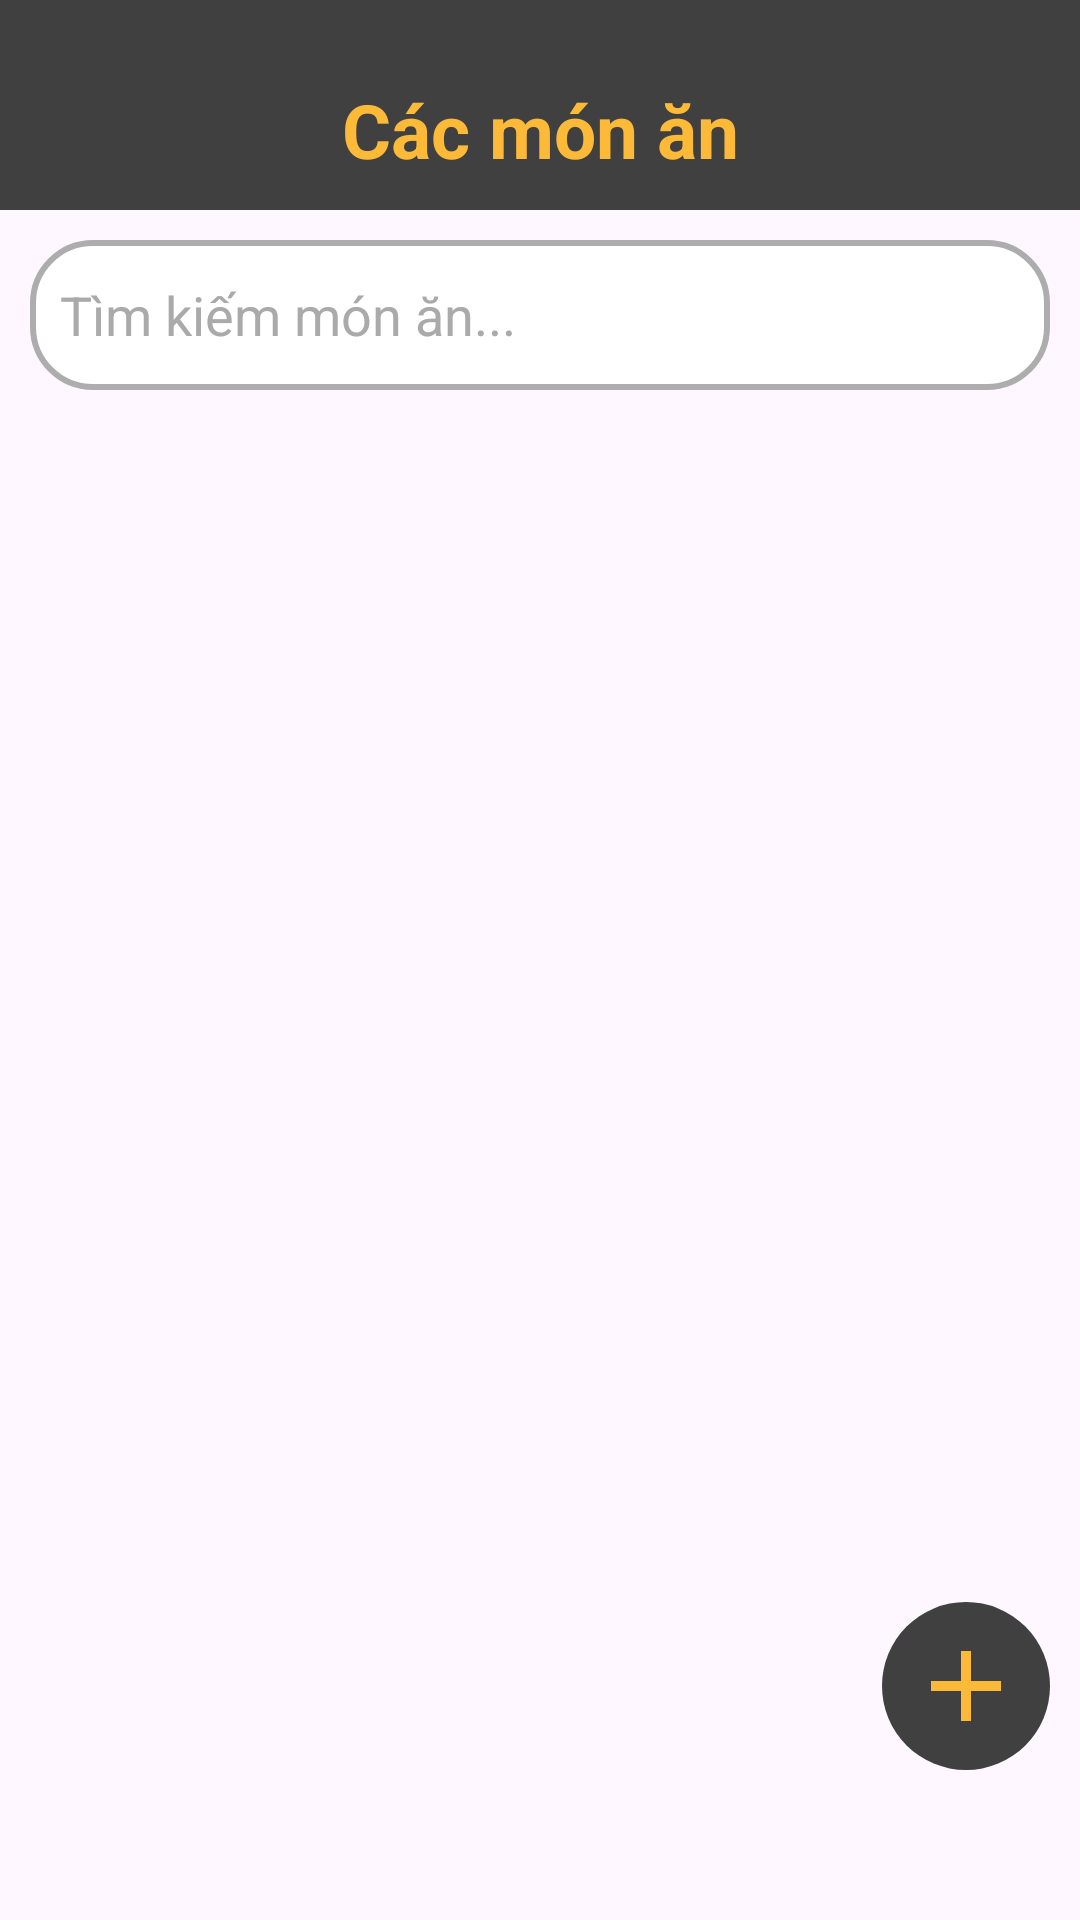

Named icons in this screenshot (1080 × 1920) and their bounding boxes, bbox(x1, y1, x2, y2):
Mở menu nhanh: bbox(882, 1602, 1050, 1770)
